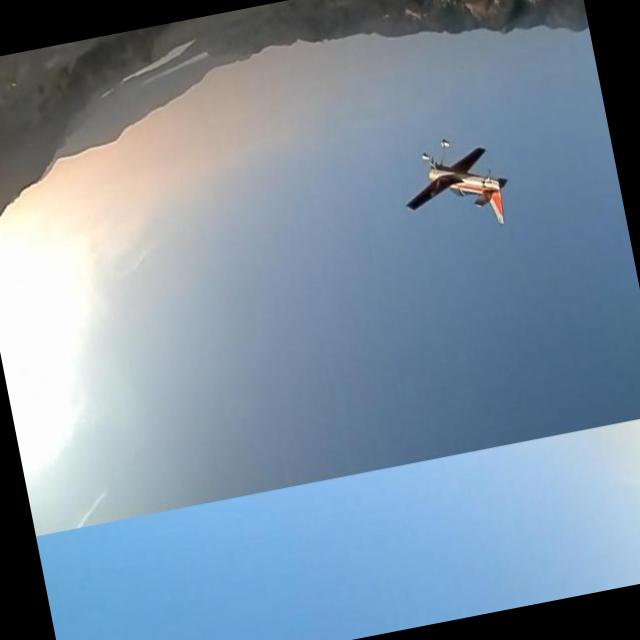UAV: (365, 104, 530, 257)
